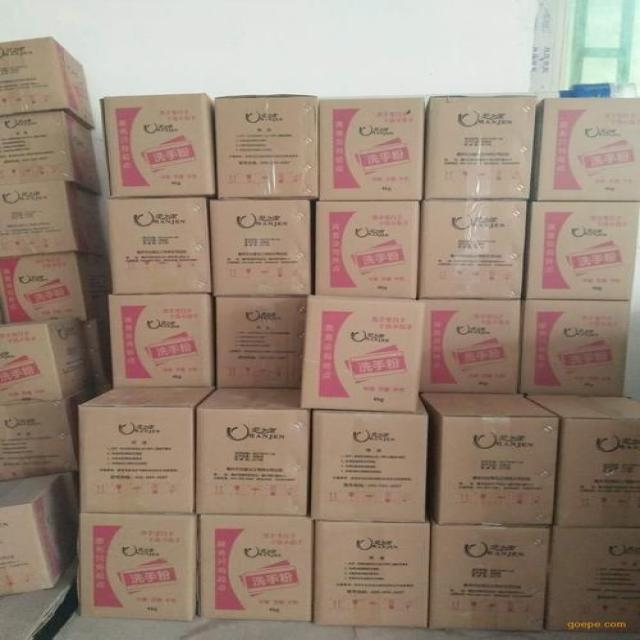Carton: (0, 181, 639, 631), (212, 97, 535, 297), (0, 37, 101, 193), (78, 513, 195, 619), (100, 93, 209, 195), (538, 97, 639, 200), (420, 201, 524, 296), (105, 197, 210, 291), (0, 472, 76, 597)
